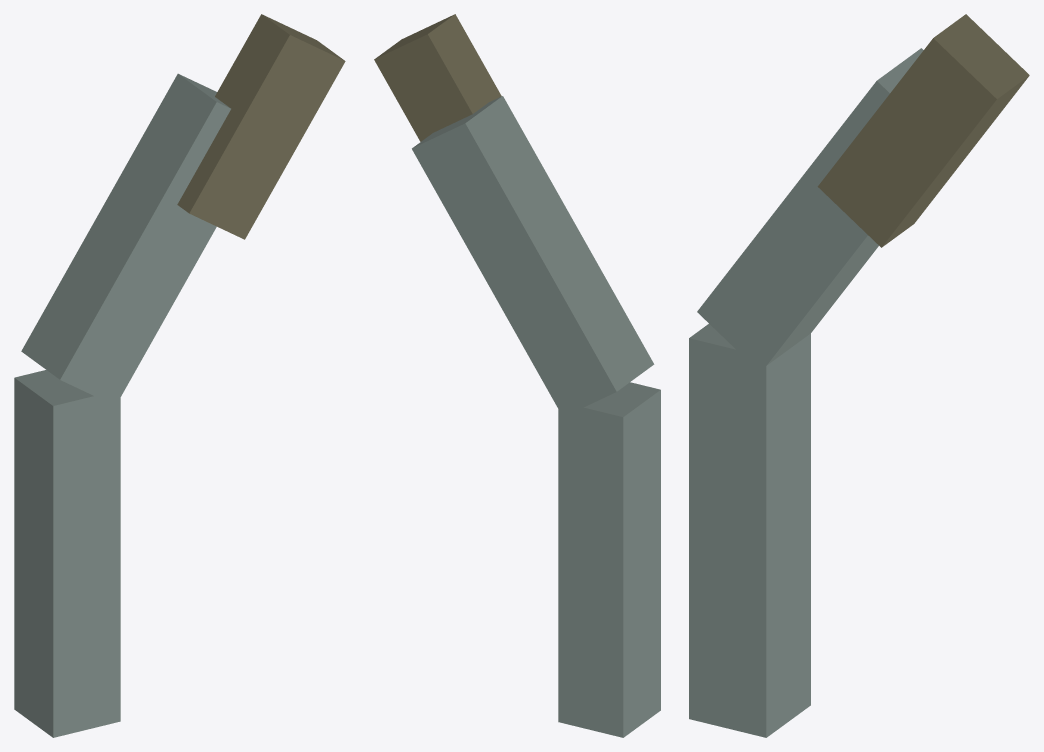
The model's file is SM_Semaforo_v3_Doblado_LOD1.fbx.
3 renders of one model, left to right at view 1: azimuth 30°, elevation 25°; view 2: azimuth 150°, elevation 25°; view 3: azimuth 330°, elevation 25°, orthographic. The views are drawn at different scales.
Parts seen in each view (by area): view 1: SM_urbano_extra_v23_LOD1; view 2: SM_urbano_extra_v23_LOD1; view 3: SM_urbano_extra_v23_LOD1.
Boxes of the visible parts, x1,y1,x2,y2 form: SM_urbano_extra_v23_LOD1: (14,14,345,737); SM_urbano_extra_v23_LOD1: (374,14,660,737); SM_urbano_extra_v23_LOD1: (689,14,1029,737).
Size of the model in its own units: 1.41 by 3.17 by 0.445.
